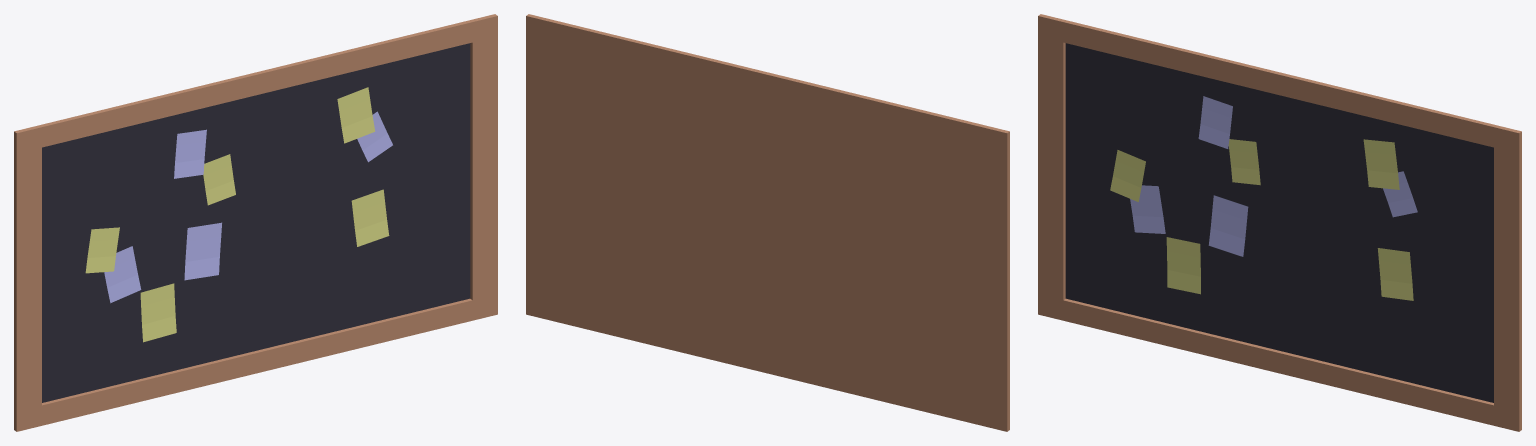
File: Blackboard.fbx
3 views of the same model, side by side, from view 1: azimuth 30°, elevation 25°; view 2: azimuth 150°, elevation 25°; view 3: azimuth 330°, elevation 25° (orthographic).
Parts seen in each view (by area): view 1: Blackboard, Note2, Note9, Note6, Note5, Note3, Note1, Note8, Note7, Note4; view 2: Blackboard; view 3: Blackboard, Note2, Note9, Note6, Note5, Note3, Note1, Note8, Note7, Note4.
Boxes of the visible parts, <box> form: Blackboard: <box>14,14,497,431</box>; Note2: <box>184,222,221,280</box>; Note9: <box>140,283,176,342</box>; Note6: <box>351,189,389,246</box>; Note5: <box>337,87,375,143</box>; Note3: <box>174,129,206,178</box>; Note1: <box>104,246,141,303</box>; Note8: <box>85,227,119,273</box>; Note7: <box>203,154,235,205</box>; Note4: <box>357,111,392,162</box>; Blackboard: <box>526,14,1009,431</box>; Blackboard: <box>1038,14,1521,431</box>; Note2: <box>1208,195,1248,256</box>; Note9: <box>1166,237,1200,294</box>; Note6: <box>1377,248,1413,300</box>; Note5: <box>1363,139,1399,189</box>; Note3: <box>1198,96,1232,148</box>; Note1: <box>1130,185,1165,233</box>; Note8: <box>1110,150,1145,201</box>; Note7: <box>1228,139,1260,185</box>; Note4: <box>1383,171,1417,217</box>.
Bounding box in the file's own units: 1.54 × 0.9151 × 0.0148.
